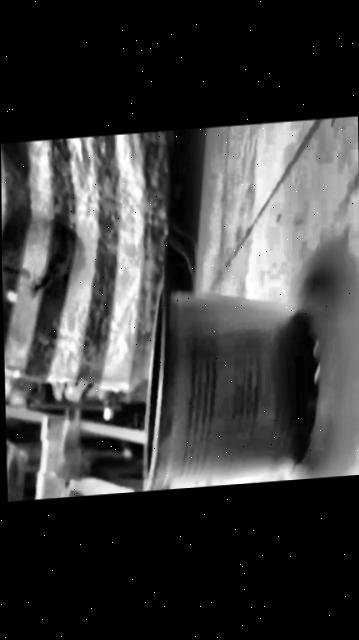pot: (137, 275, 317, 491)
